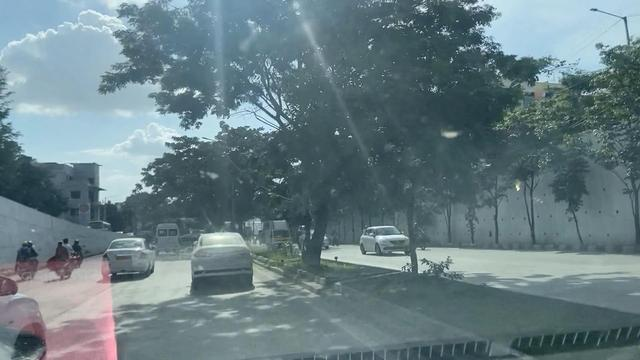LMV: (189, 230, 260, 287), (102, 236, 153, 277)
